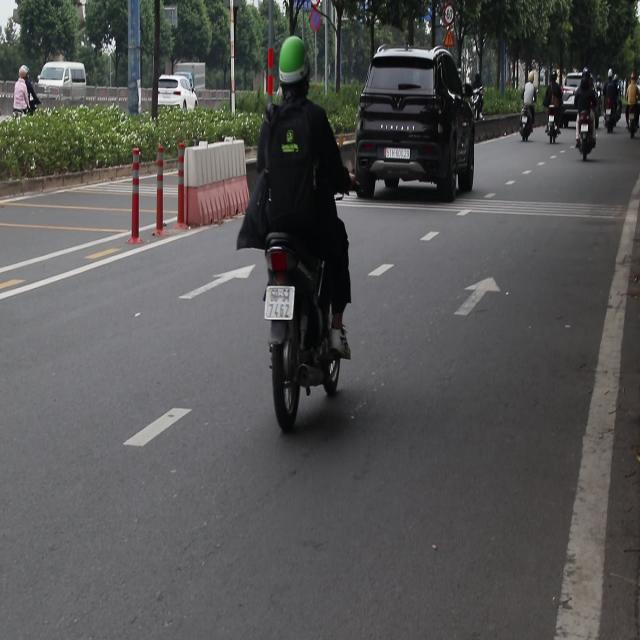car: (358, 46, 482, 204), (36, 62, 88, 105), (157, 74, 197, 112), (561, 68, 586, 125)
motorbike: (257, 238, 346, 429), (574, 105, 597, 162), (15, 80, 32, 134), (516, 96, 534, 144), (542, 102, 557, 154), (600, 88, 614, 132), (628, 95, 638, 150)
